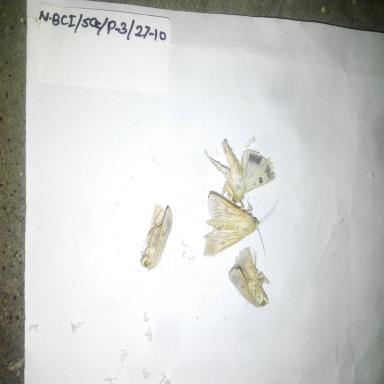abw: (201, 190, 280, 263), (202, 129, 278, 202), (131, 200, 181, 272), (226, 244, 273, 312)
